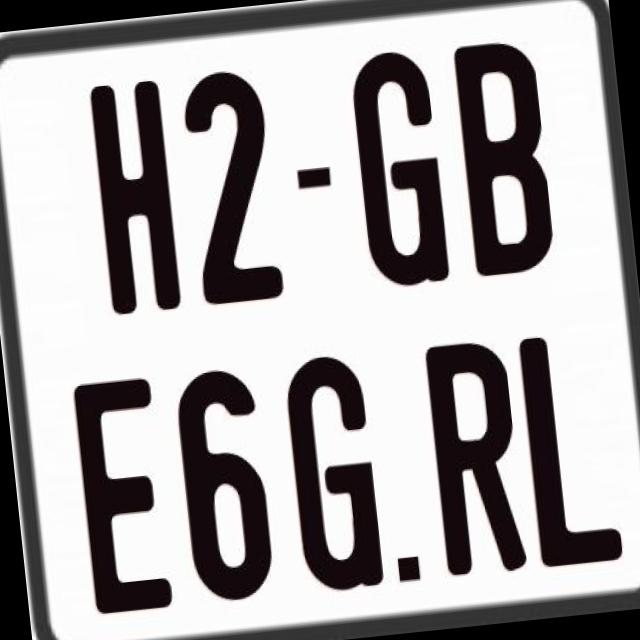2: (179, 64, 287, 308)
6: (170, 366, 276, 602)
B: (450, 35, 554, 276)
E: (70, 377, 172, 621)
G: (347, 44, 450, 294), (278, 351, 382, 592)
H: (89, 79, 187, 324)
L: (518, 330, 629, 576)
R: (422, 338, 533, 580)
